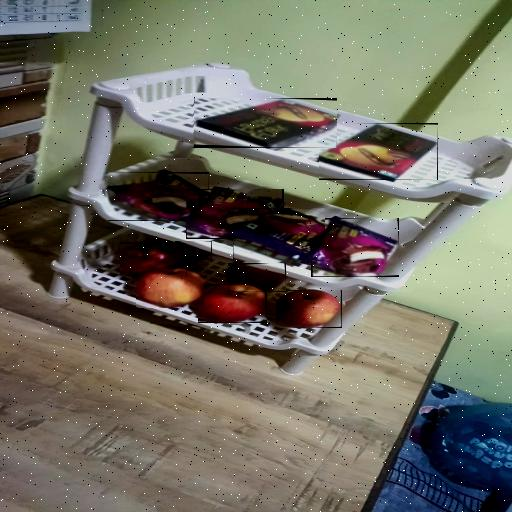Apple: (136, 268, 204, 308), (198, 284, 267, 323), (276, 290, 342, 328), (120, 242, 187, 276), (228, 263, 286, 292), (175, 242, 212, 264)
Choco Fills: (192, 98, 336, 148), (319, 123, 438, 180)
Choco Pie: (311, 218, 399, 277), (108, 172, 209, 221), (186, 189, 284, 239), (233, 209, 324, 261)
